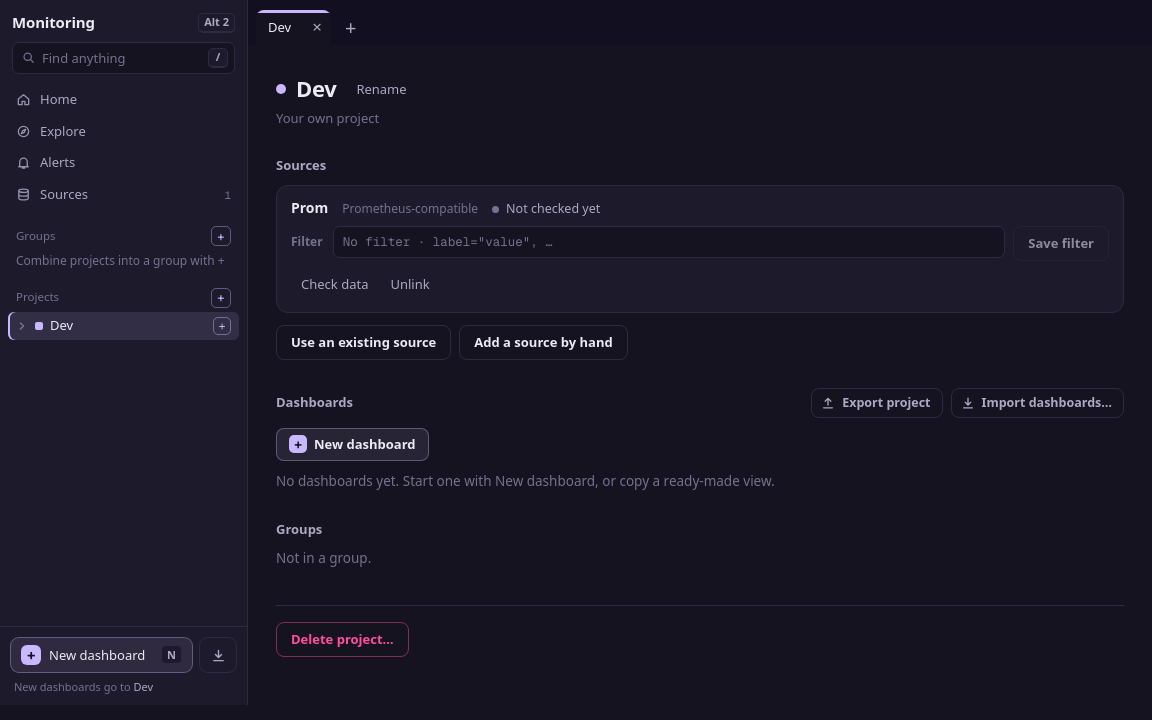
Test: Project page › unlinks a source and keeps the keyboard on the page
Step 1. Click the button with aria-label "Unlink Prom" → {"x": 410, "y": 284}, box 380,269 -> 440,300
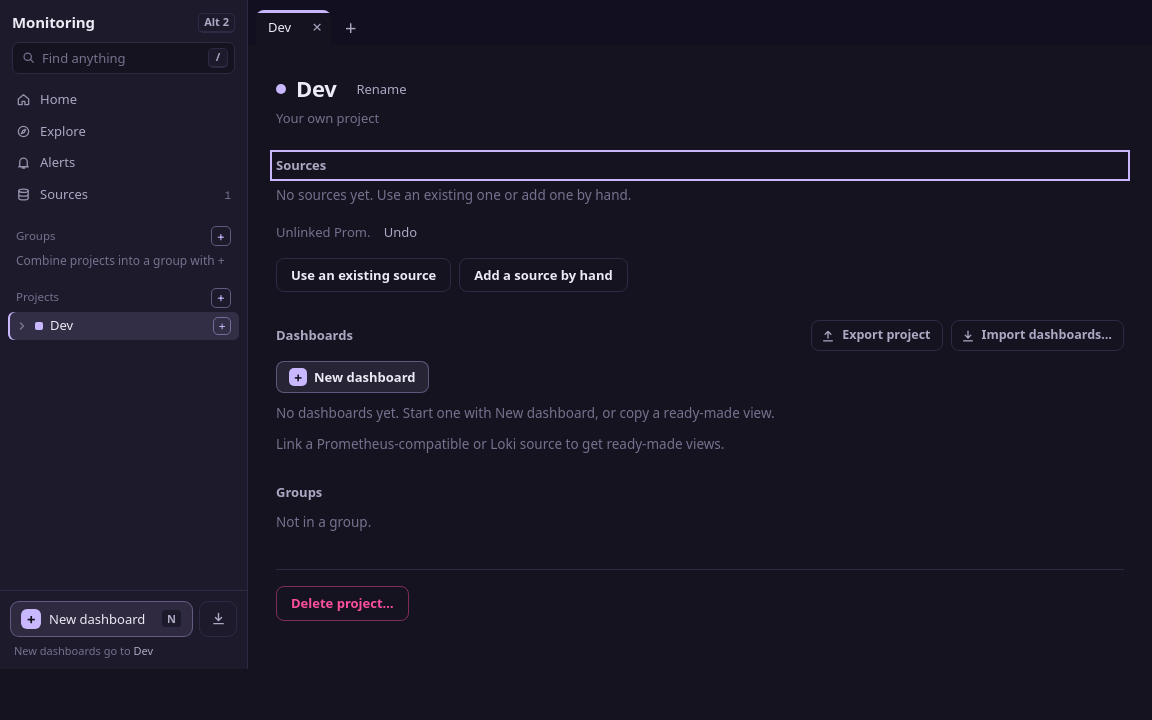
Result: the text "No sources yet. Use an existing one or add one by hand." is shown at 276,186 -> 632,204
